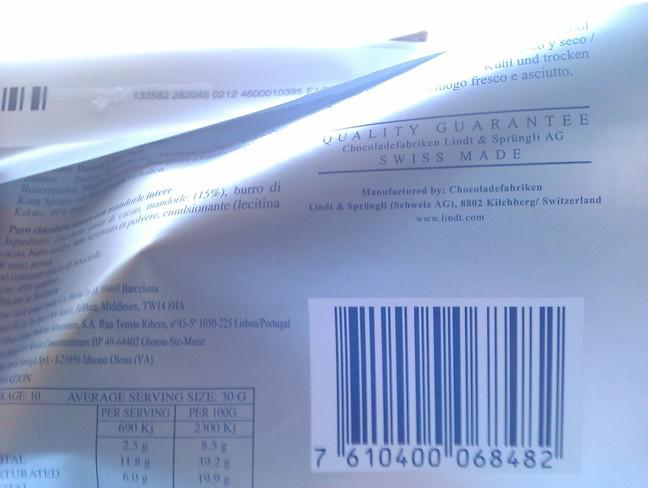Barkod: (310, 298, 582, 469)
